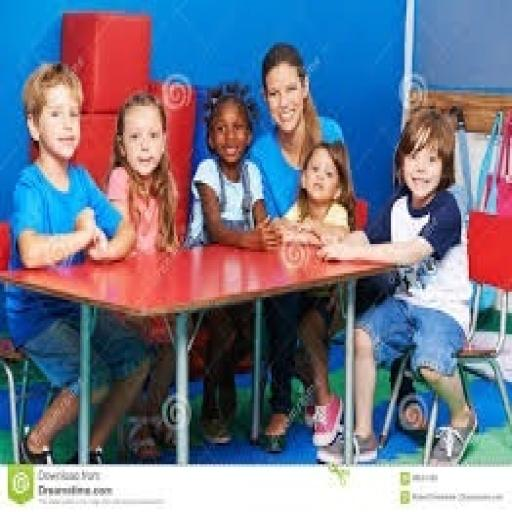sitting: (2, 58, 152, 464), (312, 101, 478, 467), (246, 40, 358, 451), (184, 80, 280, 448), (102, 90, 184, 462)
